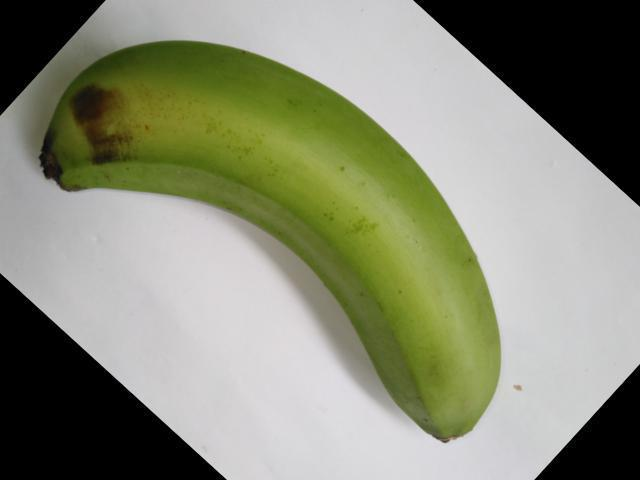freshunripe: (21, 24, 511, 454)
